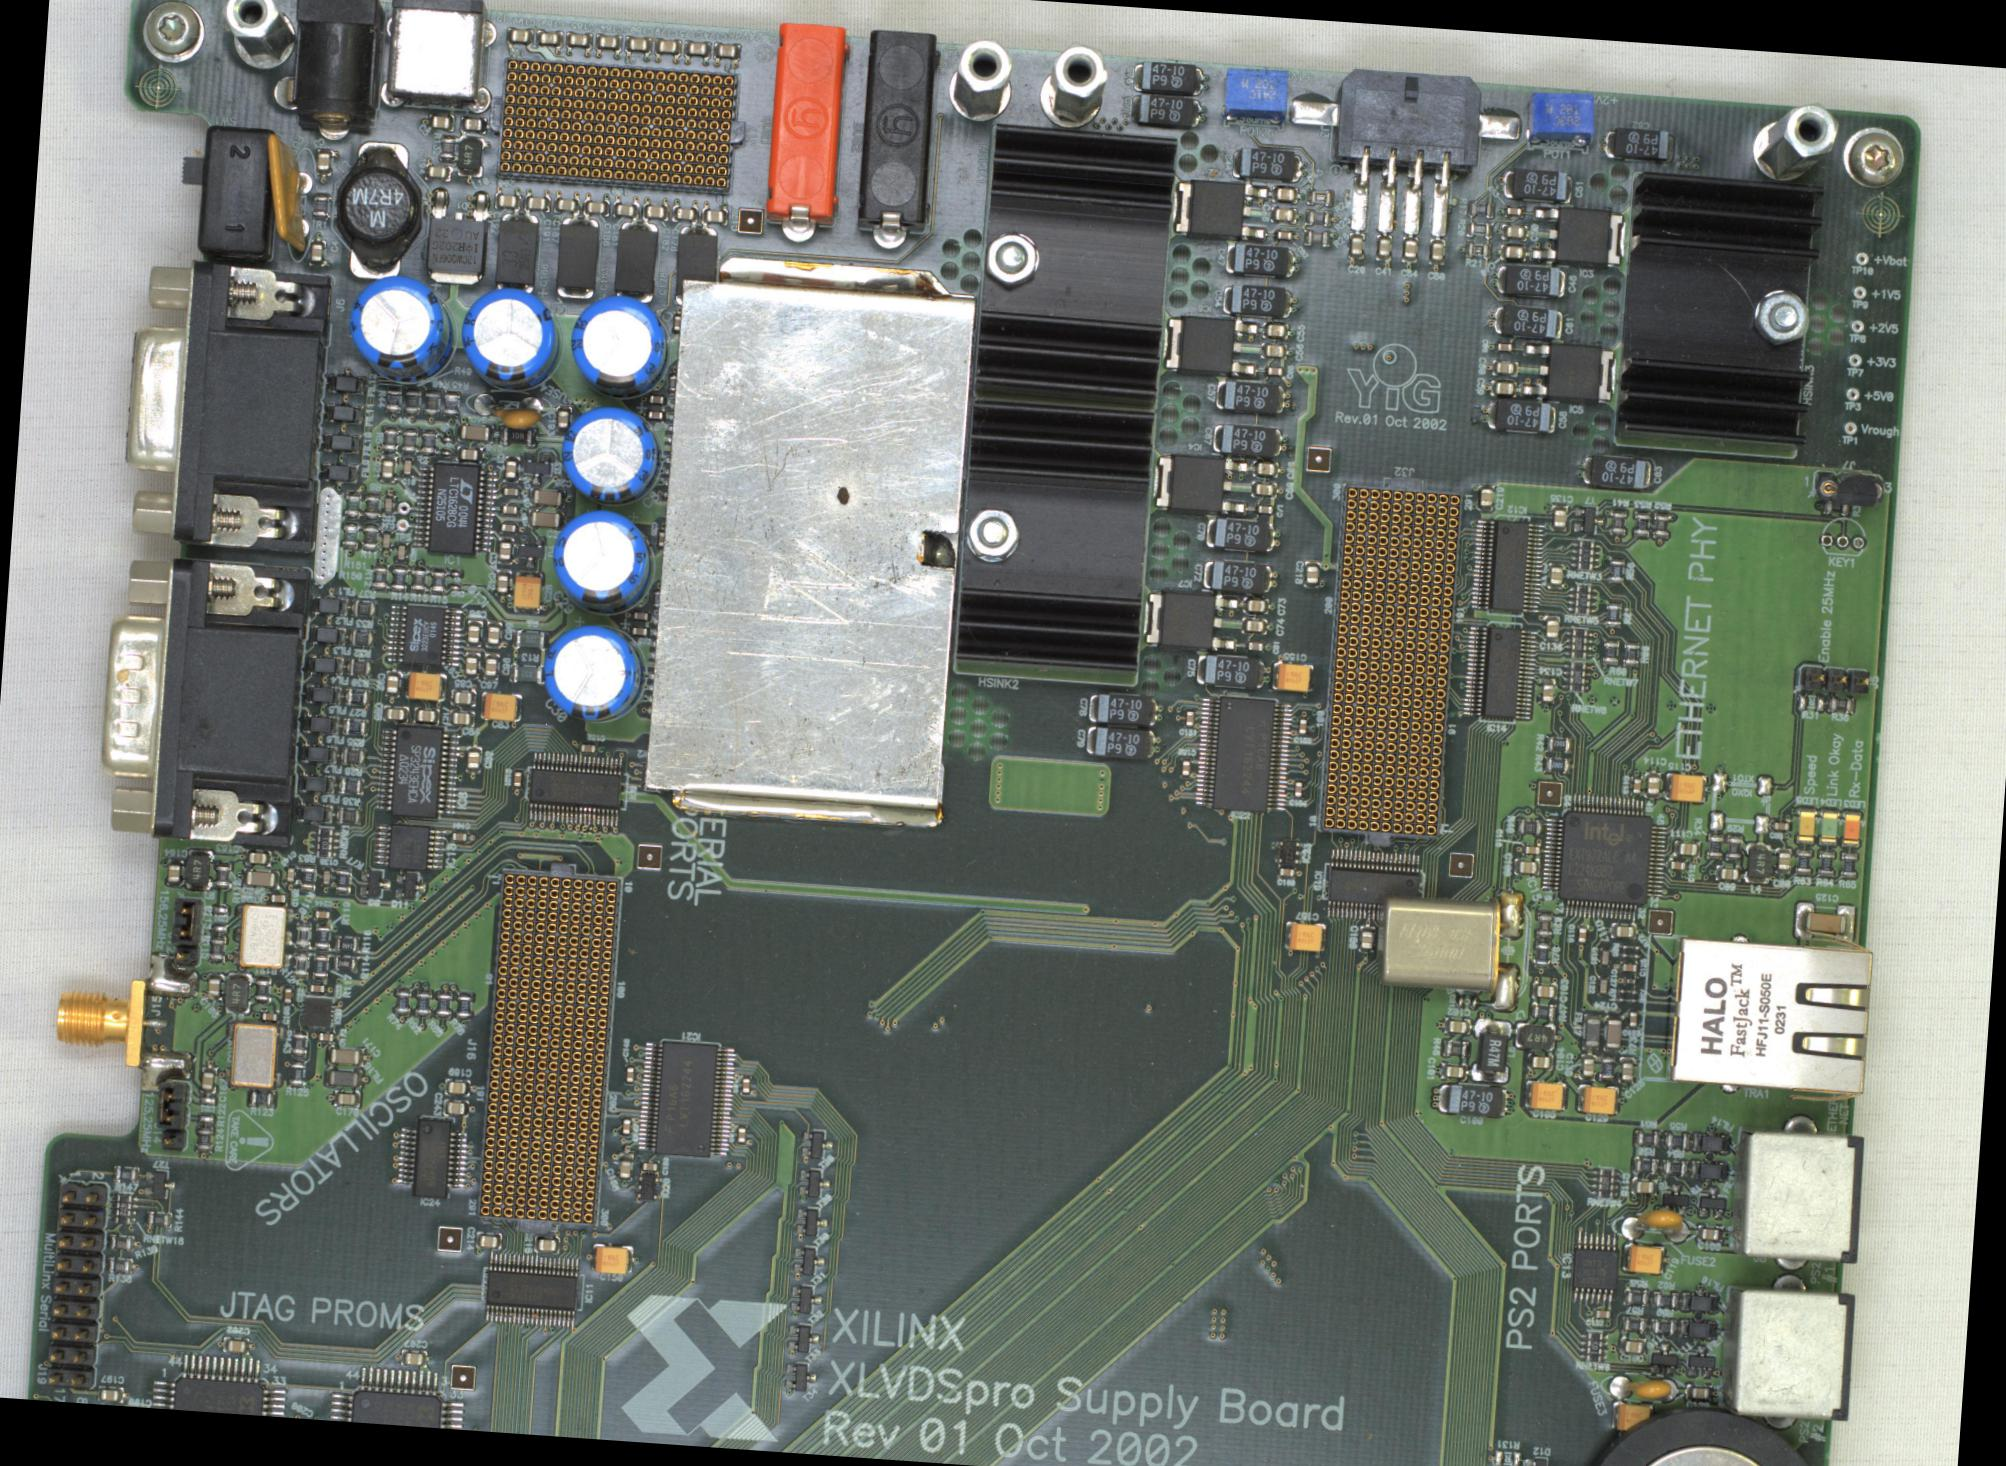Capacitor: (1790, 897, 1856, 943), (324, 1042, 363, 1067), (240, 871, 279, 894), (455, 422, 494, 444), (528, 486, 565, 506), (526, 508, 564, 528), (1601, 1014, 1621, 1050), (413, 704, 441, 724), (653, 36, 681, 56), (463, 745, 483, 773), (1439, 1059, 1467, 1080), (97, 1383, 125, 1404), (1269, 184, 1297, 204), (611, 199, 639, 220), (699, 206, 727, 226), (1548, 503, 1568, 531), (501, 452, 520, 481), (1302, 559, 1321, 589), (1238, 615, 1268, 634), (1671, 838, 1701, 857), (1357, 924, 1375, 953), (1441, 1016, 1470, 1034), (449, 687, 475, 707), (1771, 846, 1791, 872), (1512, 855, 1539, 876), (553, 195, 579, 215), (1249, 480, 1276, 500), (483, 620, 501, 648), (461, 650, 480, 678), (383, 670, 402, 698), (506, 26, 534, 45), (534, 28, 562, 47), (712, 41, 740, 59), (243, 848, 271, 866), (165, 858, 184, 886), (1629, 1176, 1657, 1195), (332, 1089, 360, 1108), (1696, 1223, 1724, 1242), (1618, 1335, 1646, 1354), (221, 1335, 249, 1354), (427, 112, 455, 131), (1269, 206, 1297, 224), (670, 204, 698, 223), (1489, 338, 1517, 357), (1487, 379, 1515, 397), (1251, 458, 1279, 477), (1475, 485, 1494, 513), (199, 1066, 216, 1095), (455, 444, 481, 463), (1241, 595, 1268, 614), (1543, 618, 1562, 645), (1537, 678, 1556, 704), (382, 704, 408, 723), (565, 30, 592, 48), (623, 34, 649, 53), (1525, 1052, 1551, 1070), (206, 972, 224, 999), (441, 1097, 467, 1115), (533, 1234, 559, 1253), (315, 148, 333, 174), (582, 198, 609, 217), (642, 203, 668, 221), (1262, 321, 1288, 340), (1490, 358, 1517, 377), (378, 455, 396, 483), (497, 536, 514, 564), (494, 569, 511, 597), (464, 618, 481, 647), (481, 651, 498, 679), (593, 33, 621, 50), (682, 41, 710, 58), (1713, 865, 1741, 882), (1609, 921, 1637, 938), (1578, 1053, 1595, 1081), (442, 1078, 470, 1095), (473, 1231, 501, 1248), (1684, 1383, 1712, 1401), (399, 1349, 427, 1366), (492, 192, 520, 209), (554, 405, 572, 433), (1531, 980, 1556, 999), (307, 238, 326, 263), (1643, 771, 1660, 798), (1617, 1056, 1634, 1083), (1498, 223, 1525, 240), (424, 162, 450, 179), (1498, 243, 1525, 260), (1400, 235, 1417, 262), (1260, 343, 1286, 360), (617, 1151, 632, 1179), (1375, 234, 1391, 262), (1547, 562, 1564, 587), (459, 115, 484, 132), (1427, 238, 1444, 263), (523, 195, 548, 212), (1347, 232, 1363, 257), (617, 1114, 632, 1137), (621, 1062, 635, 1086), (497, 520, 517, 536), (576, 742, 598, 756), (734, 1123, 748, 1145), (1254, 502, 1274, 516), (400, 456, 414, 477), (498, 503, 519, 517), (1520, 843, 1540, 857), (1666, 857, 1687, 871), (266, 891, 287, 905), (738, 1075, 752, 1095), (1243, 640, 1265, 653), (1629, 774, 1642, 796), (1179, 757, 1191, 779), (1769, 819, 1791, 832), (1624, 1008, 1638, 1027), (639, 1159, 657, 1173), (511, 766, 522, 790), (1576, 922, 1587, 946), (1291, 777, 1304, 798), (449, 830, 469, 843), (307, 981, 327, 994), (280, 983, 293, 1003), (259, 1010, 279, 1022), (1503, 206, 1523, 218), (1294, 717, 1308, 734), (285, 863, 296, 885), (501, 486, 520, 499), (315, 1030, 333, 1042), (1592, 1307, 1610, 1320), (1596, 975, 1607, 996), (383, 495, 394, 514), (380, 531, 391, 550), (1276, 866, 1294, 877), (1600, 946, 1609, 967), (311, 908, 330, 919), (1265, 366, 1283, 377), (645, 410, 663, 421), (1274, 231, 1294, 240), (629, 626, 646, 637), (1620, 961, 1637, 972), (396, 542, 405, 561), (1184, 707, 1193, 726), (646, 394, 665, 404), (671, 313, 681, 330), (656, 530, 663, 547), (1621, 975, 1635, 985), (632, 612, 646, 620)
Clock: (1371, 880, 1533, 1011), (221, 1019, 283, 1089), (231, 902, 291, 967)
Connector: (93, 550, 311, 849), (115, 257, 332, 553), (1318, 472, 1464, 852), (480, 851, 625, 1234), (1638, 919, 1875, 1103), (495, 58, 748, 196), (1726, 1108, 1866, 1277), (1716, 1268, 1858, 1435), (50, 946, 199, 1094), (850, 28, 942, 251), (765, 22, 850, 245), (266, 0, 386, 143), (44, 1175, 111, 1390), (378, 0, 500, 115), (1811, 469, 1883, 506), (1794, 664, 1867, 693), (1816, 530, 1866, 550), (160, 1126, 188, 1151), (174, 944, 199, 967)
Diode: (394, 869, 428, 900), (358, 868, 389, 897), (1522, 1455, 1557, 1464)
EM: (321, 1064, 361, 1089), (1677, 1290, 1718, 1315), (1688, 1158, 1726, 1182), (321, 432, 360, 455), (294, 801, 333, 824), (1691, 1129, 1730, 1153), (324, 400, 363, 424), (1676, 1316, 1715, 1338), (319, 461, 357, 483), (305, 653, 343, 675), (297, 771, 335, 793), (304, 682, 340, 704), (327, 372, 363, 394), (1581, 1014, 1601, 1050), (310, 595, 347, 614), (299, 745, 336, 763), (308, 625, 344, 643)
Electrolytic Capacitor: (343, 270, 461, 388), (453, 284, 568, 396), (547, 505, 657, 617), (565, 290, 674, 402), (537, 620, 649, 724), (558, 402, 667, 508), (554, 213, 598, 299), (674, 224, 718, 307), (495, 212, 539, 293), (617, 221, 657, 304), (1084, 723, 1160, 760), (1598, 126, 1674, 164), (1480, 397, 1556, 435), (1196, 653, 1269, 690), (1498, 167, 1571, 204), (1132, 61, 1209, 97), (1224, 241, 1300, 277), (1089, 692, 1163, 728), (1232, 146, 1307, 182), (1434, 1083, 1506, 1119), (1205, 517, 1280, 552), (1131, 93, 1205, 128), (1223, 284, 1297, 318), (1487, 305, 1562, 340), (1215, 377, 1290, 411), (1212, 422, 1286, 456), (1201, 559, 1277, 592), (1581, 453, 1649, 489), (1495, 265, 1565, 296), (1282, 919, 1327, 952), (1269, 661, 1313, 693), (1662, 771, 1705, 804), (1522, 1078, 1565, 1111), (1618, 1243, 1663, 1274), (511, 569, 542, 612), (403, 670, 447, 701), (1575, 1083, 1618, 1114), (1610, 1401, 1652, 1432), (478, 692, 522, 721), (590, 1243, 632, 1273)
Fuse: (257, 132, 313, 259), (463, 386, 551, 430), (1607, 1206, 1696, 1245), (1598, 1369, 1685, 1405)
Heatsink: (1609, 168, 1819, 460), (948, 399, 1159, 685), (972, 122, 1174, 408)
IC: (1539, 791, 1666, 922), (637, 1038, 735, 1159), (1195, 693, 1293, 813), (375, 721, 459, 819), (522, 751, 629, 827), (413, 458, 495, 556), (478, 1251, 584, 1327), (1319, 848, 1427, 922), (1470, 511, 1543, 617), (1462, 618, 1536, 724), (394, 1112, 467, 1200), (1515, 340, 1615, 404), (1162, 312, 1258, 377), (1528, 206, 1626, 268), (1173, 176, 1268, 240), (1143, 589, 1240, 651), (1154, 452, 1249, 514), (386, 601, 461, 668), (1568, 1231, 1618, 1304), (372, 821, 444, 869), (301, 994, 333, 1028), (632, 1172, 660, 1201), (1272, 838, 1300, 866)
Inductor: (332, 142, 428, 279), (1469, 1016, 1511, 1083), (455, 136, 486, 178), (184, 848, 213, 891), (223, 972, 252, 1014), (1743, 841, 1771, 885), (1514, 1020, 1554, 1048)
Jumper: (154, 1078, 192, 1129), (170, 891, 202, 944)
Led: (1816, 807, 1839, 846), (1793, 805, 1816, 844), (1838, 809, 1861, 846)
Pads: (1707, 770, 1772, 833), (209, 904, 229, 935), (1796, 692, 1824, 710), (196, 1095, 215, 1123), (1490, 1449, 1520, 1464), (438, 433, 453, 460), (445, 567, 461, 590), (1455, 994, 1476, 1008)
Pins: (1579, 1329, 1607, 1360)
Potentiometer: (1523, 89, 1595, 154), (1219, 65, 1288, 129)
Resistor Jumper: (106, 1192, 137, 1223), (1575, 584, 1604, 617), (308, 826, 338, 857), (1570, 537, 1598, 570), (1564, 628, 1592, 659), (1562, 661, 1590, 692)
Resistor Network: (1283, 62, 1525, 241), (1590, 1165, 1618, 1198), (497, 424, 536, 447), (508, 662, 545, 684), (511, 628, 547, 650), (1825, 695, 1855, 715), (212, 860, 232, 890), (332, 933, 361, 953), (1441, 1038, 1470, 1058), (391, 986, 411, 1016), (192, 1123, 212, 1153), (1649, 509, 1670, 539), (246, 1087, 277, 1106), (419, 425, 438, 456), (1838, 852, 1858, 880), (251, 975, 271, 1003), (388, 562, 406, 592), (402, 386, 421, 416), (310, 192, 330, 218), (1607, 508, 1628, 534), (428, 566, 447, 594), (408, 566, 427, 594), (349, 598, 377, 617), (1704, 832, 1723, 860), (1596, 1055, 1615, 1083), (433, 989, 452, 1017), (453, 991, 472, 1019), (111, 1164, 139, 1182), (1305, 187, 1333, 206), (422, 388, 441, 416), (343, 489, 360, 519), (209, 935, 226, 964), (414, 988, 431, 1017), (383, 383, 400, 413), (400, 425, 417, 455), (1600, 639, 1618, 665), (343, 676, 369, 695), (1515, 818, 1542, 837), (1816, 849, 1835, 876), (1794, 848, 1813, 874), (1534, 911, 1553, 938), (287, 1059, 305, 1086), (1621, 1288, 1648, 1307), (143, 1209, 170, 1228), (1620, 1315, 1646, 1334), (107, 1232, 134, 1251), (106, 1254, 132, 1273), (1467, 199, 1494, 218), (1304, 207, 1330, 226), (1464, 240, 1490, 259), (441, 389, 459, 416), (1629, 511, 1648, 537), (378, 424, 397, 450), (371, 561, 386, 592), (1607, 556, 1624, 584), (341, 523, 358, 552), (1542, 756, 1570, 773), (336, 777, 364, 795), (1533, 939, 1550, 967), (299, 863, 316, 891), (333, 866, 350, 894), (313, 922, 330, 950), (1529, 1000, 1554, 1019), (1632, 1156, 1657, 1175), (1652, 1290, 1677, 1309), (363, 492, 380, 519), (360, 520, 377, 547), (1621, 639, 1638, 665), (347, 629, 374, 647), (1545, 735, 1571, 752), (341, 718, 368, 735), (1724, 833, 1741, 860), (340, 748, 366, 765), (335, 807, 361, 824), (332, 955, 358, 972), (313, 953, 330, 980), (1634, 1129, 1660, 1147), (1663, 1131, 1690, 1148), (290, 1030, 307, 1056), (1660, 1159, 1687, 1176), (1466, 221, 1492, 238), (1302, 229, 1329, 246), (439, 134, 455, 162), (1821, 499, 1849, 514), (291, 952, 308, 977), (1649, 1318, 1674, 1335), (346, 659, 372, 675), (1604, 603, 1620, 626), (667, 374, 674, 393), (1629, 988, 1637, 1003), (1632, 944, 1640, 958), (1617, 988, 1624, 1002), (1620, 944, 1626, 957)
Switch: (174, 120, 280, 259)
Test Point: (1849, 318, 1864, 333), (394, 517, 408, 531), (1853, 251, 1867, 265), (1852, 285, 1866, 299), (1846, 352, 1860, 366), (1844, 386, 1858, 400), (1842, 421, 1856, 435)
Transistor: (424, 185, 489, 285), (520, 452, 553, 486), (793, 1204, 827, 1237), (788, 1282, 822, 1315), (516, 533, 547, 569), (793, 1243, 825, 1276), (783, 1360, 816, 1393), (1648, 1341, 1679, 1376), (1685, 1343, 1715, 1379), (801, 1128, 833, 1159), (797, 1167, 830, 1198), (142, 1167, 174, 1198), (787, 1321, 819, 1352), (1571, 503, 1603, 534), (1699, 1184, 1727, 1218), (1660, 1181, 1688, 1214)
